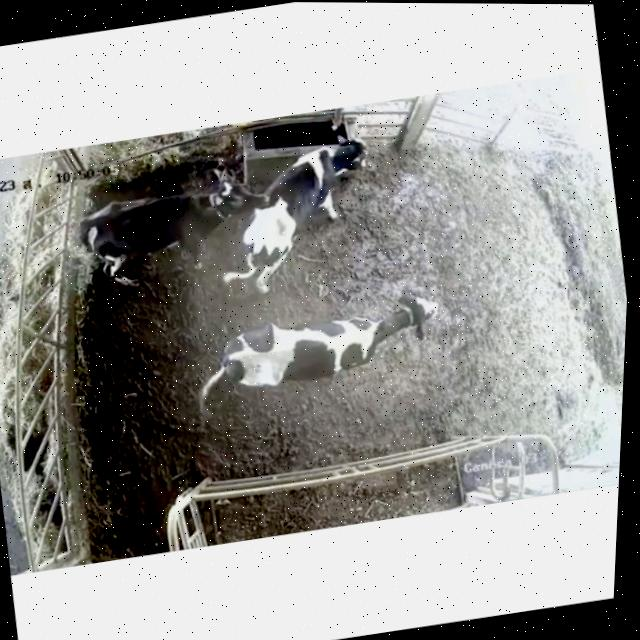propping: (160, 153, 309, 253)
